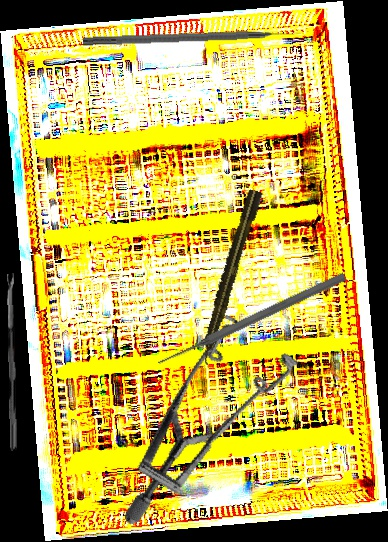Handpiece: (194, 188, 265, 367)
Hook Surgical: (82, 28, 305, 48)
Pusher: (155, 270, 348, 369)
Speculum: (70, 297, 332, 526)
Surgical Spoon: (6, 273, 19, 451)
